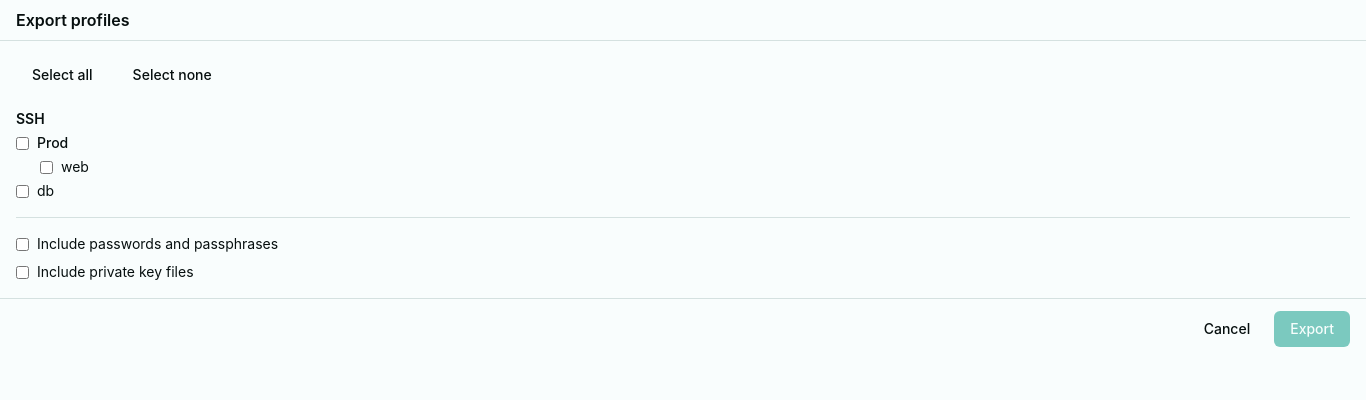
Test: a failed or cancelled save dialog leaves the page usable
Click the checkbox labelled "db" at [22, 191], box [16,184,29,198]
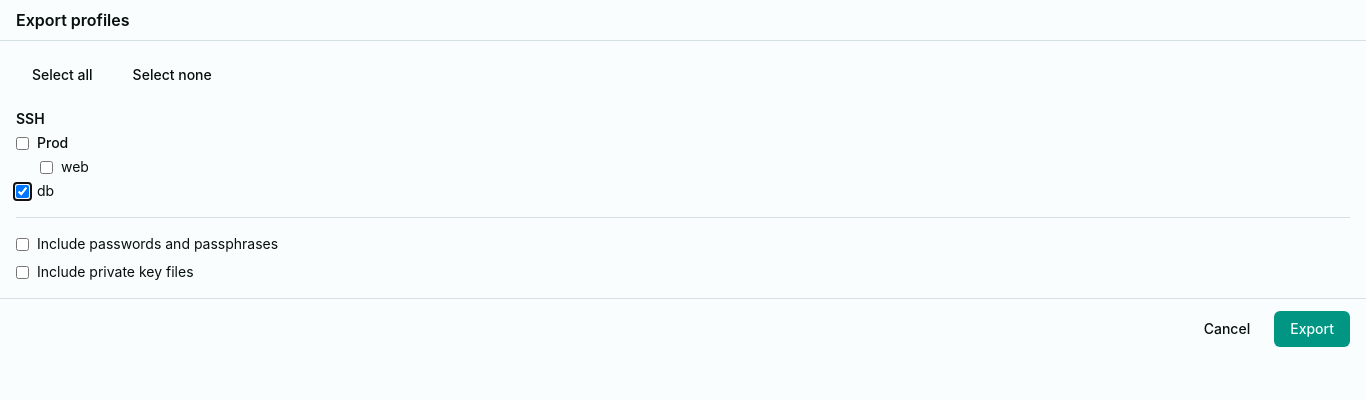
Click the button "Export" at [1312, 329], box [1274,311,1350,347]
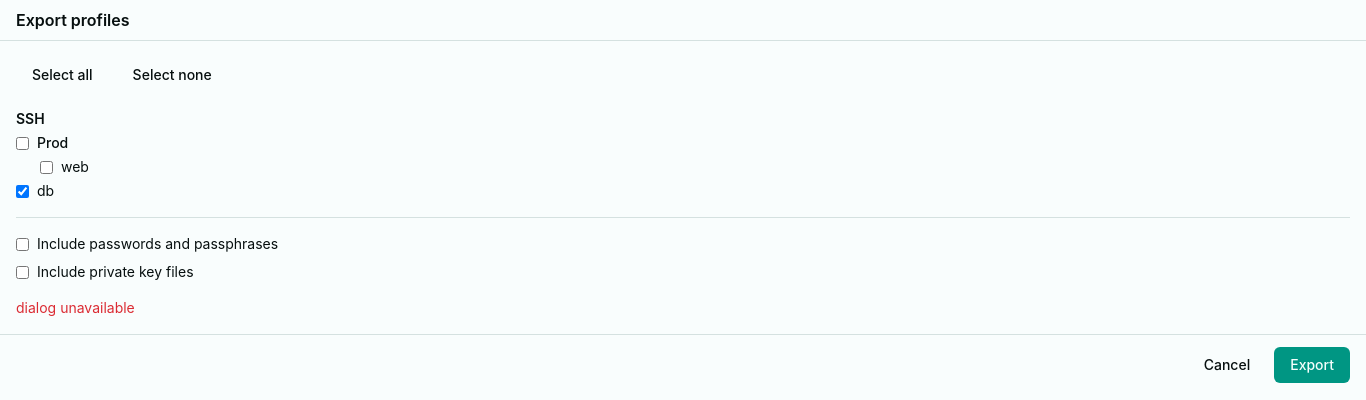
Now the button "Export" is enabled
Now the text "dialog unavailable" is shown, box [16,299,135,316]
Click the button "Export" at [1312, 365], box [1274,347,1350,383]
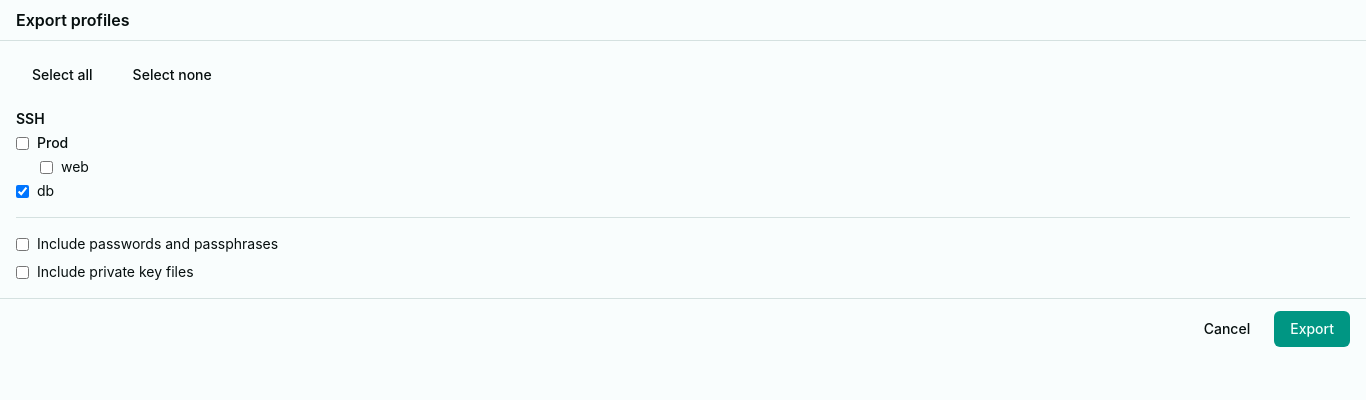
Now the button "Export" is enabled, box [1274,311,1350,347]
Now the text "dialog unavailable" is gone
